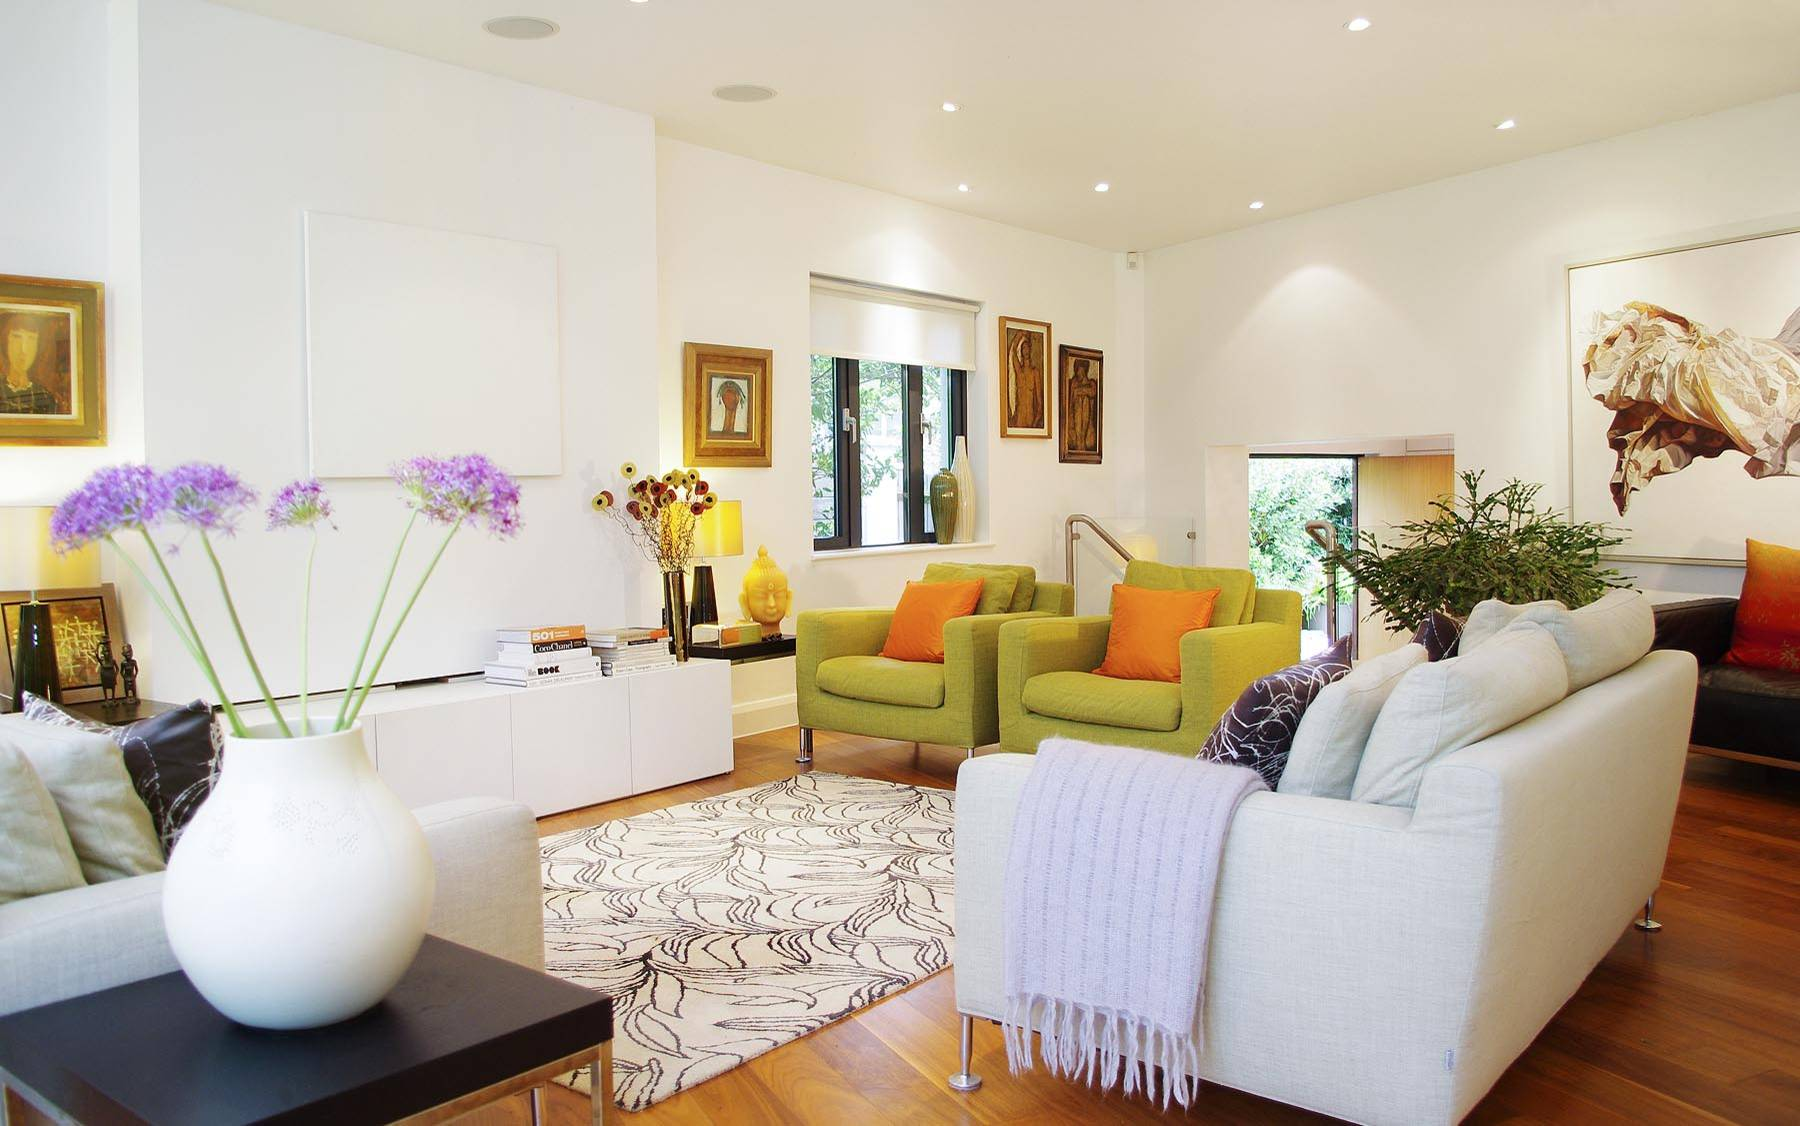hijau: (1015, 569, 1257, 742), (807, 562, 1002, 739), (930, 470, 956, 541)
hitam: (10, 603, 65, 704), (690, 566, 721, 625)
kuning: (742, 547, 792, 636)
orange: (890, 572, 977, 662), (1740, 538, 1800, 668), (1111, 585, 1184, 678)
putih: (1292, 629, 1666, 1092), (169, 734, 425, 1021), (1017, 741, 1216, 1030)
